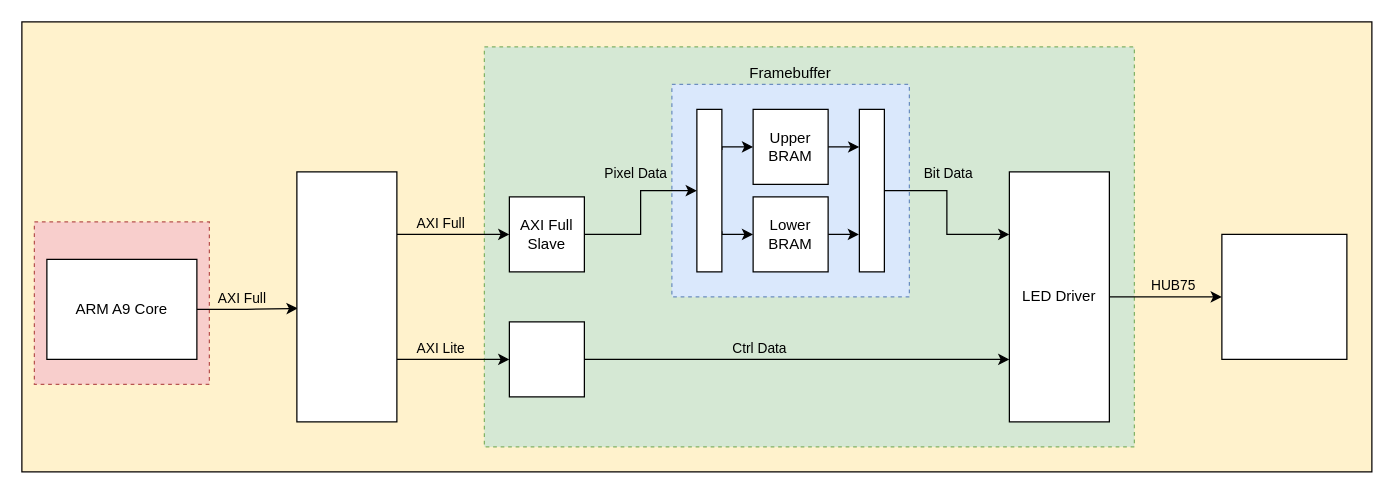
Image size: 1394x494. Some labels were removed from this diagram. Each missing label, with the centre of its shape:
"AXI Interconnect" goes at pixel 346 296.
"AXI Lite Slave" goes at pixel 546 359.
"Panel(s)" goes at pixel 1284 296.
